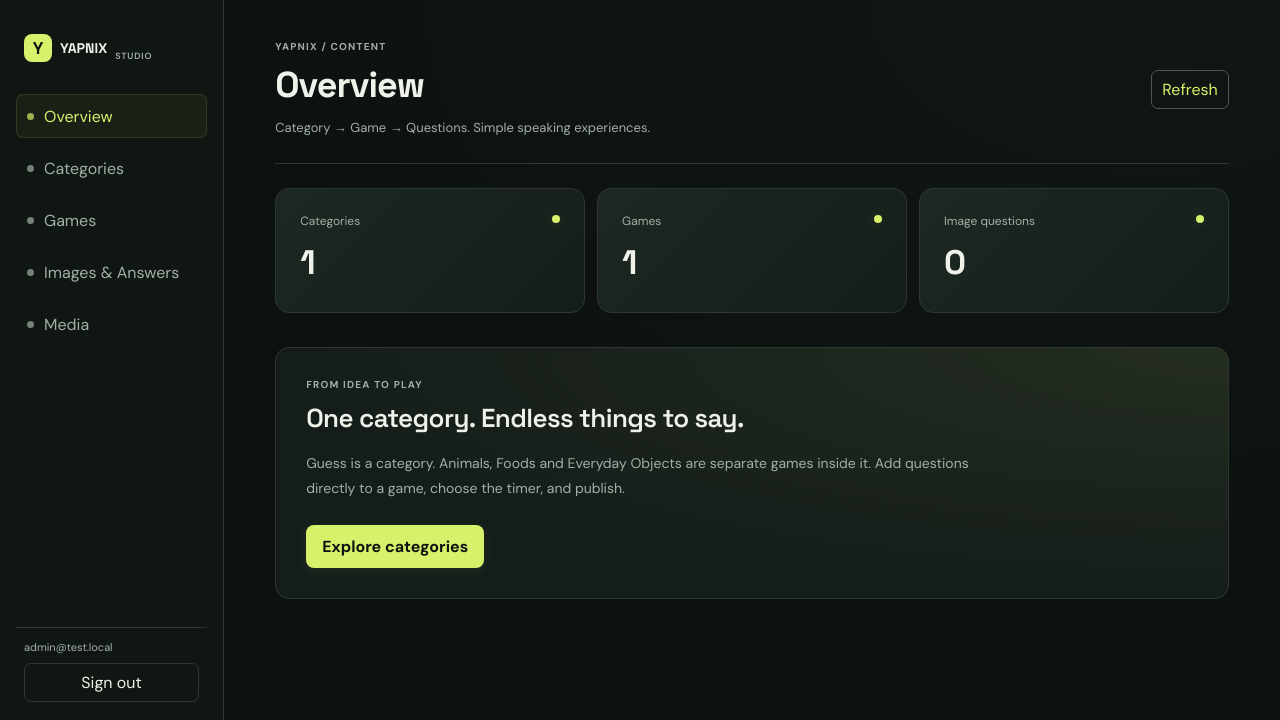
Test: category and standalone game workflows › shows Guess as a category and creates a game with questions directly, without a level step
This screenshot has width=1280, height=720.
Click the button "Games" at (112, 220), box 16,198 -> 207,242
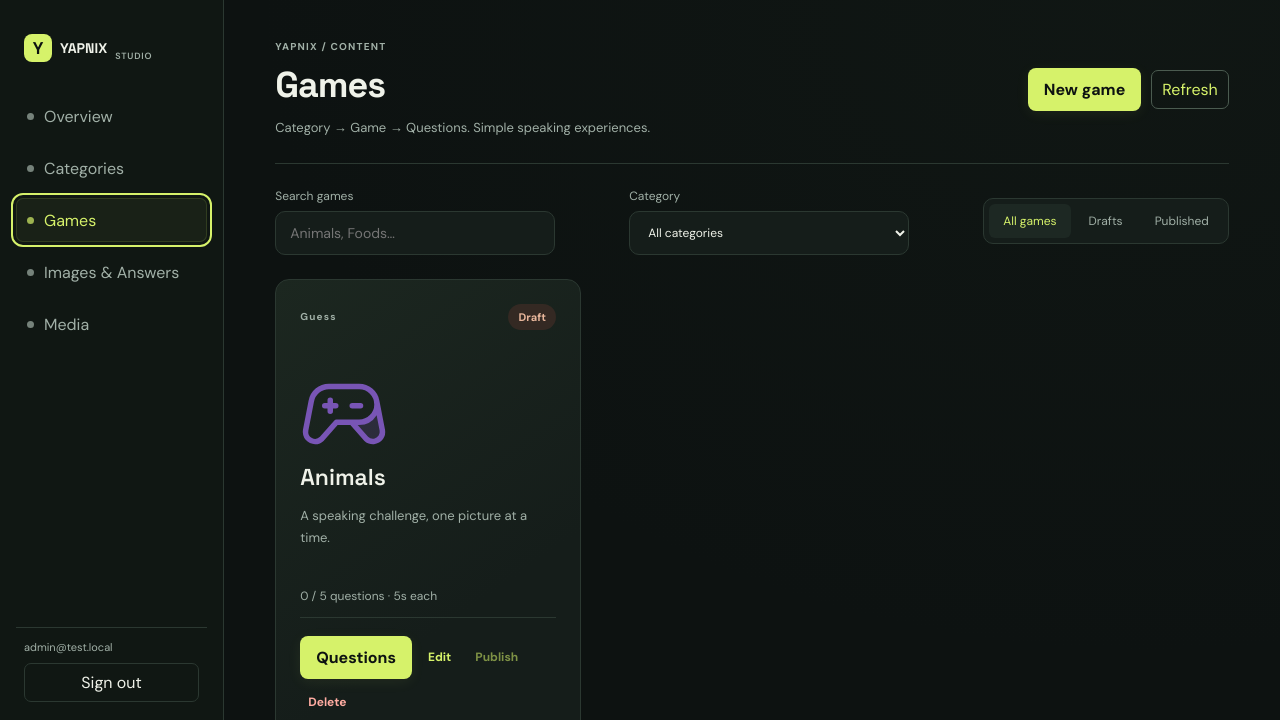
Check: the heading "Animals" is shown, box 300,462 -> 386,492
Click the button "New game" at (1085, 89), box 1028,68 -> 1141,111
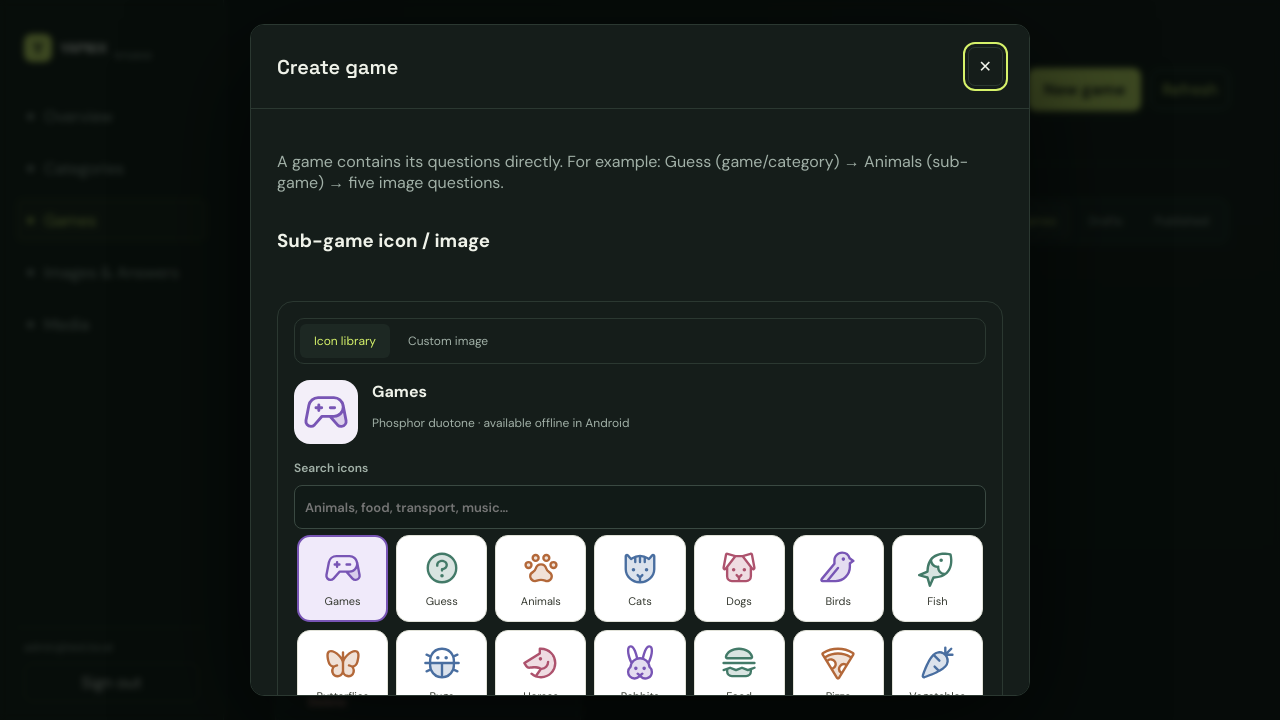
Type "food" into the search field labelled "Search icons" at (640, 507), box 294,485 -> 986,529
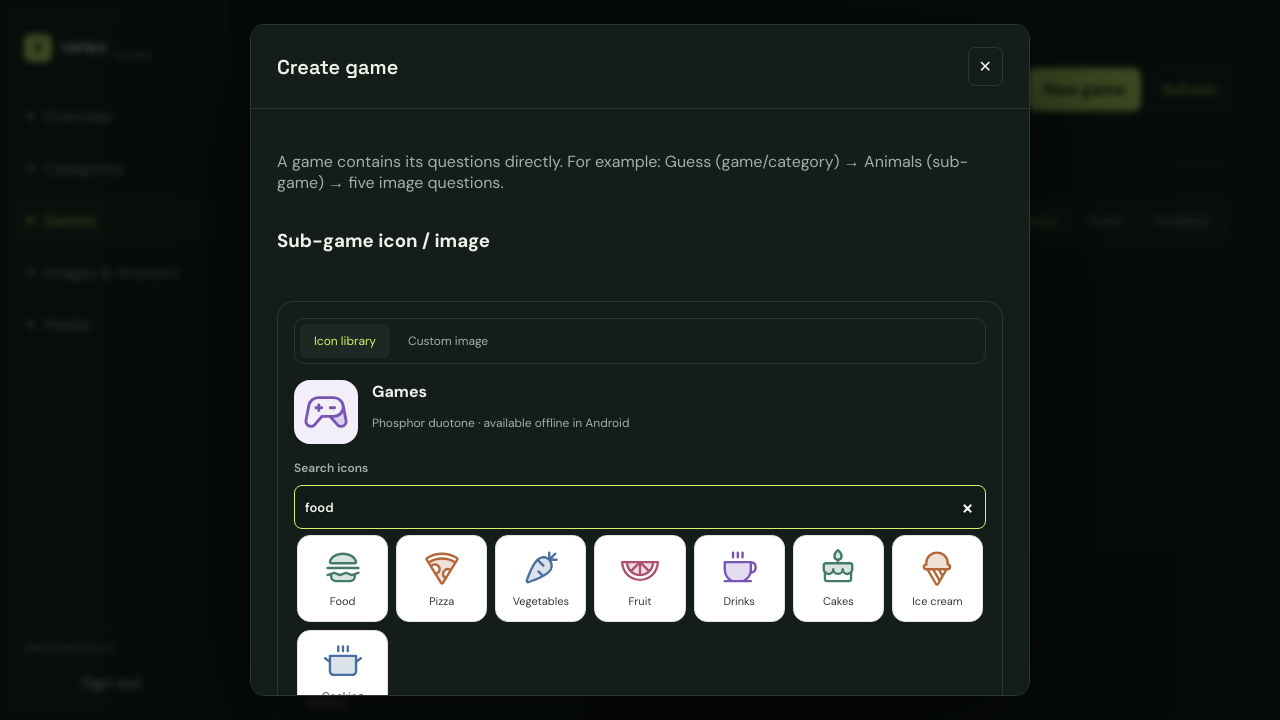
Click the button with aria-label "Select Food icon" at (343, 579), box 297,535 -> 388,622
(page scrolled)
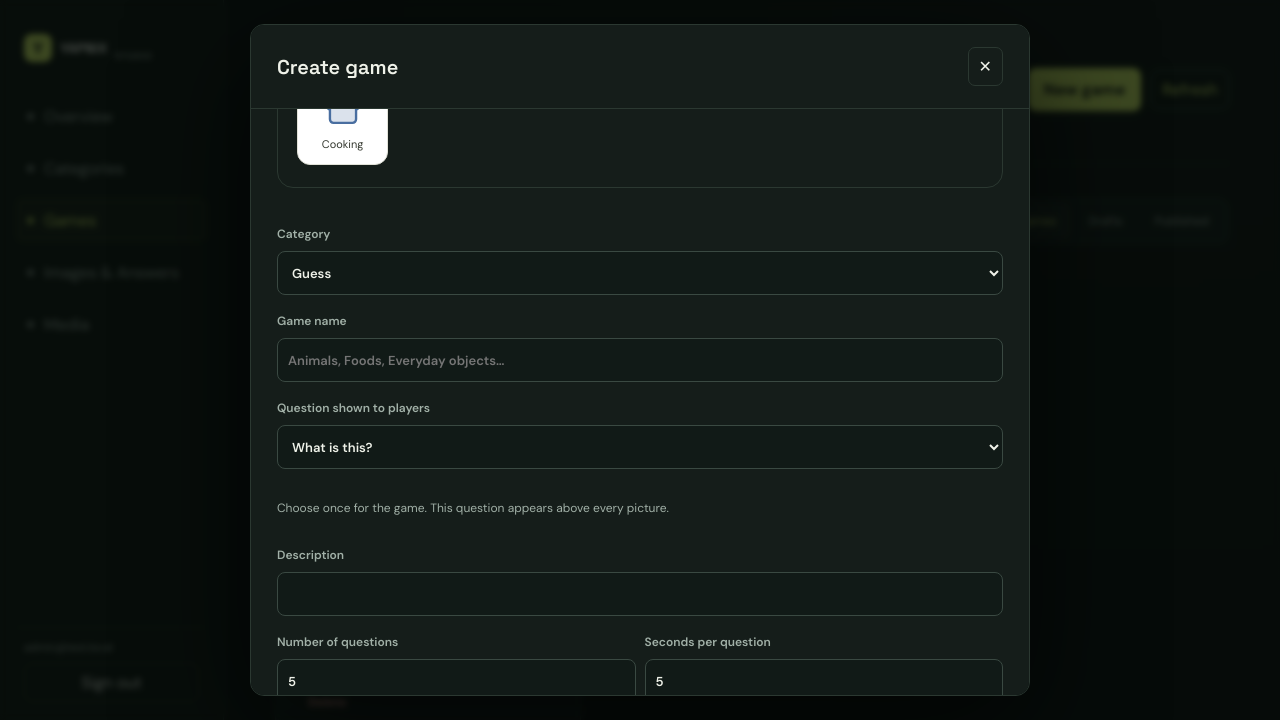
Type "Foods" into the field labelled "Game name" at (640, 360), box 277,338 -> 1003,382
Select "Guess the animal" in the dropdown labelled "Question shown to players" at (640, 447), box 277,425 -> 1003,469
(page scrolled)
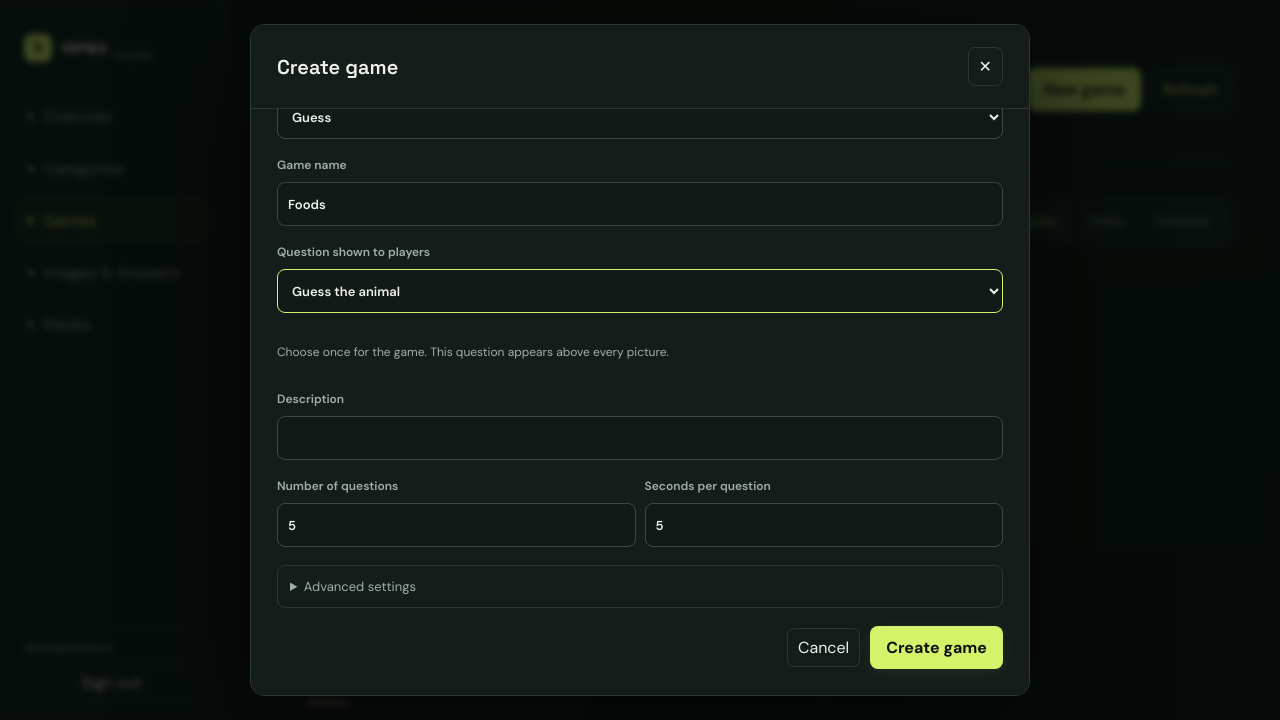
Check: the element named "Slug" holds "foods", box 277,565 -> 1003,608
Click the button "Create game" at (937, 648), box 870,626 -> 1003,669
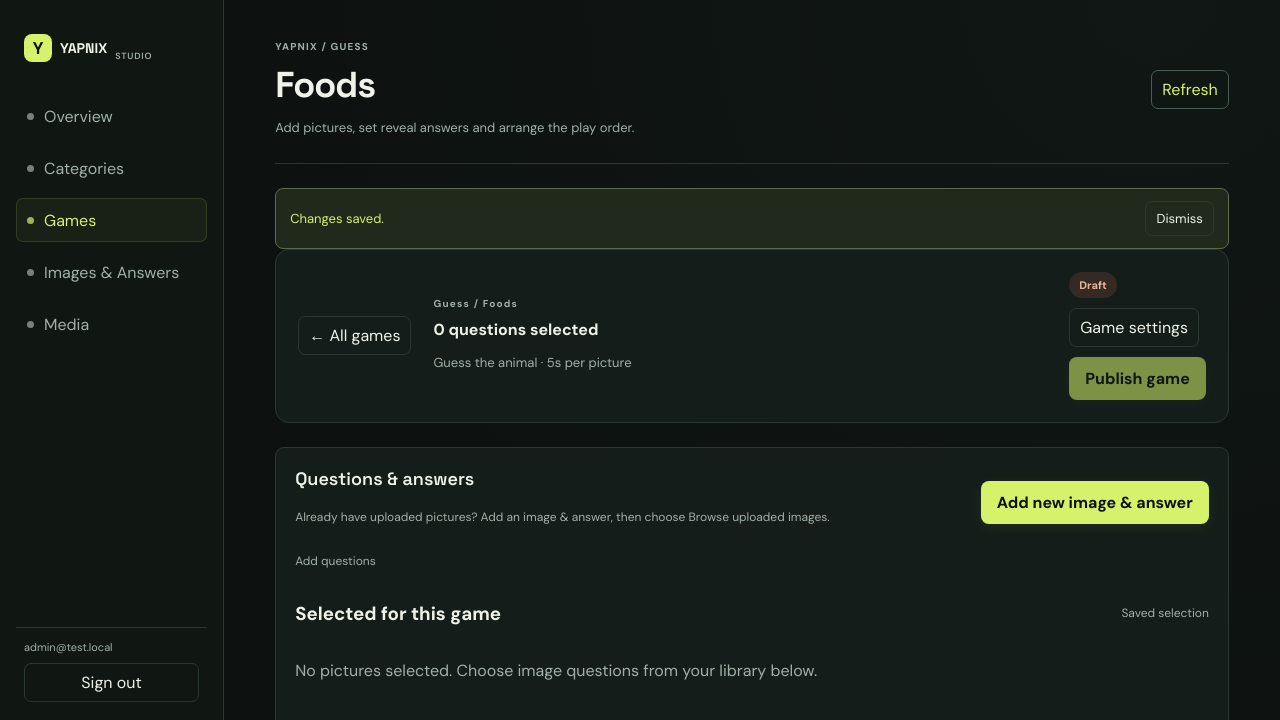
Check: the heading "Foods" is shown, box 275,62 -> 375,108
Check: the button "Add new image & answer" is shown, box 981,481 -> 1209,524
Check: the dialog is gone
